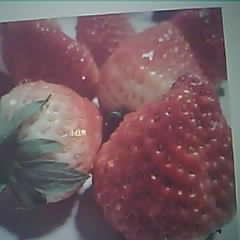straw-ripe: (94, 76, 237, 236), (2, 80, 104, 214)
